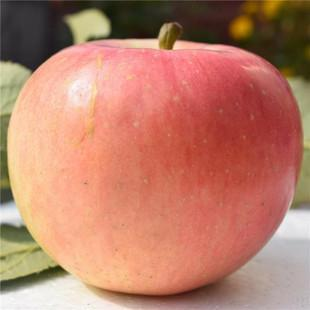apple: (5, 28, 304, 297)
